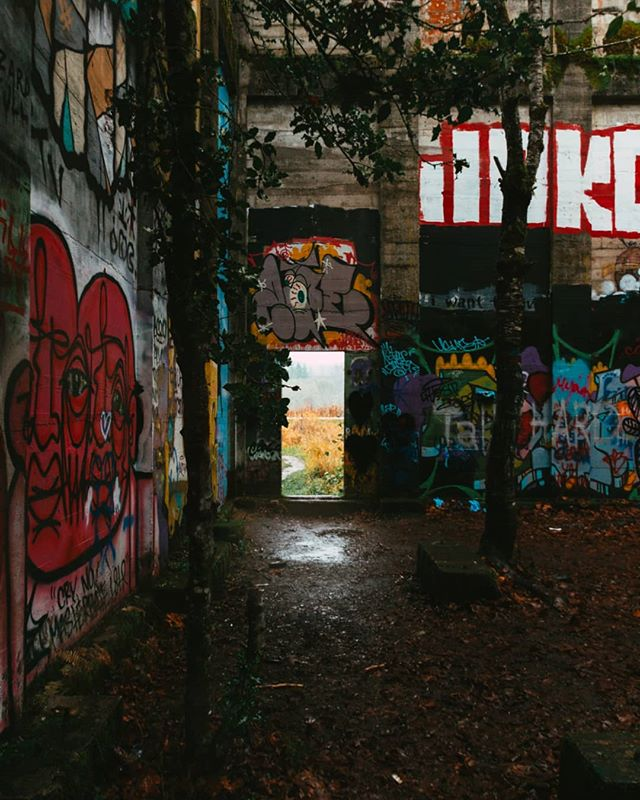graffiti: (1, 238, 185, 627), (1, 1, 194, 222), (411, 320, 640, 494), (426, 113, 638, 238), (239, 214, 399, 343)
tree: (131, 1, 298, 742), (433, 1, 584, 577)
